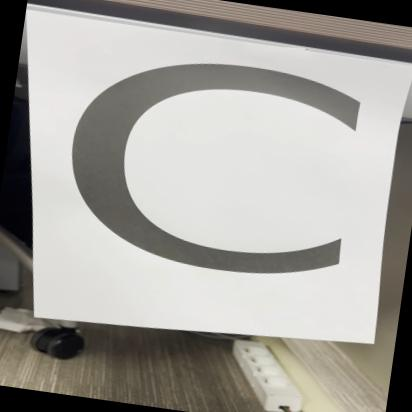seat: (0, 5, 412, 368)
